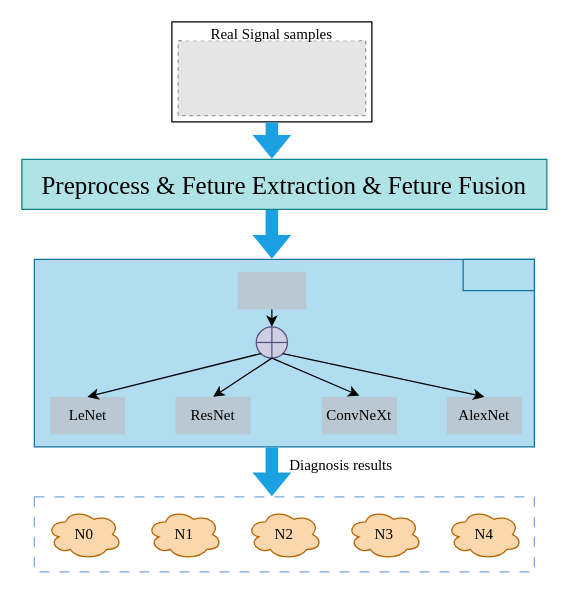
Some shapes in this 569 by 594 pixel diagram are drawn without their labels. Grey dashed boxes stand in for pictures. The box of each missing label's shape, as (x1, y1, x2, y2) in pixels:
Classifiers: (462, 258, 534, 291)
PINN: (237, 271, 306, 309)
